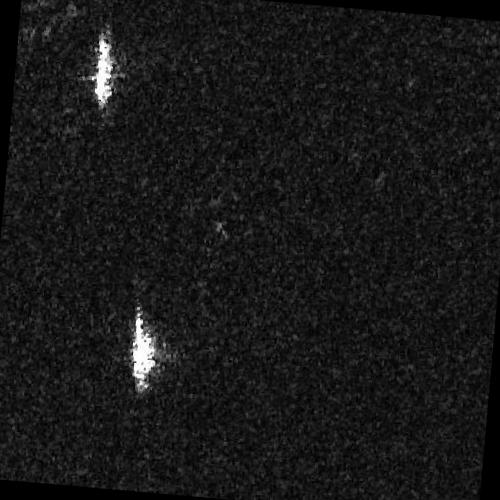ship: (131, 307, 156, 392), (94, 36, 112, 106)
